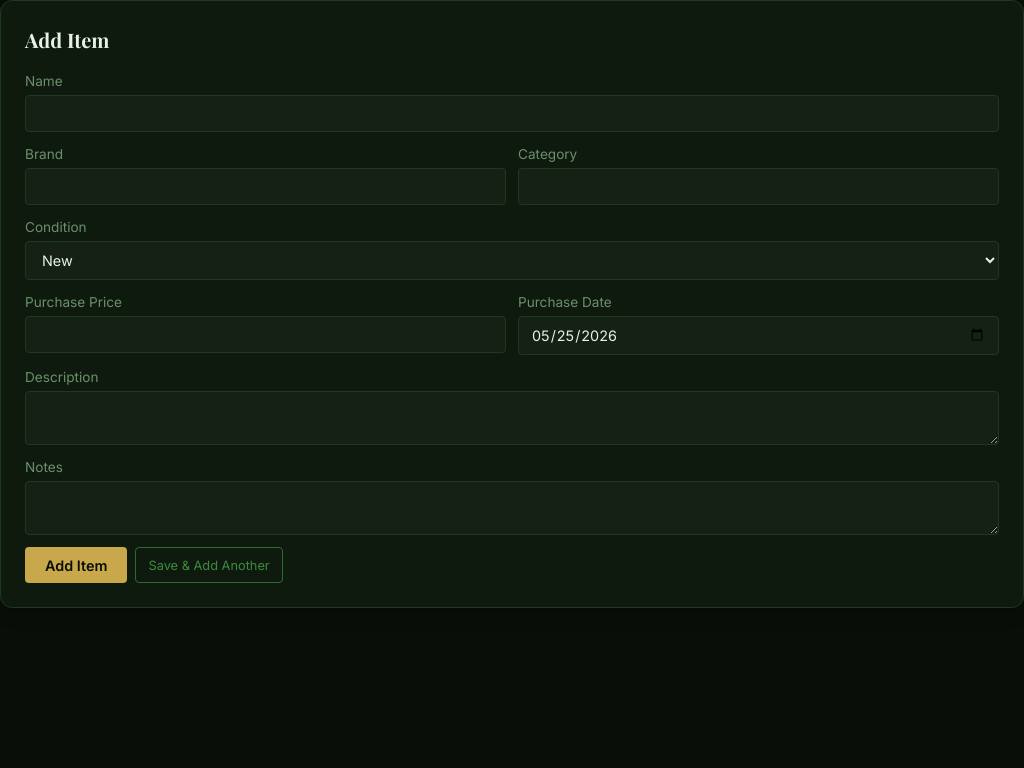
AddItemForm › 400 response from API displays an error message
In the field labelled "Name": (512, 114) x1=25 y1=95 x2=999 y2=132, type "Test Bag"
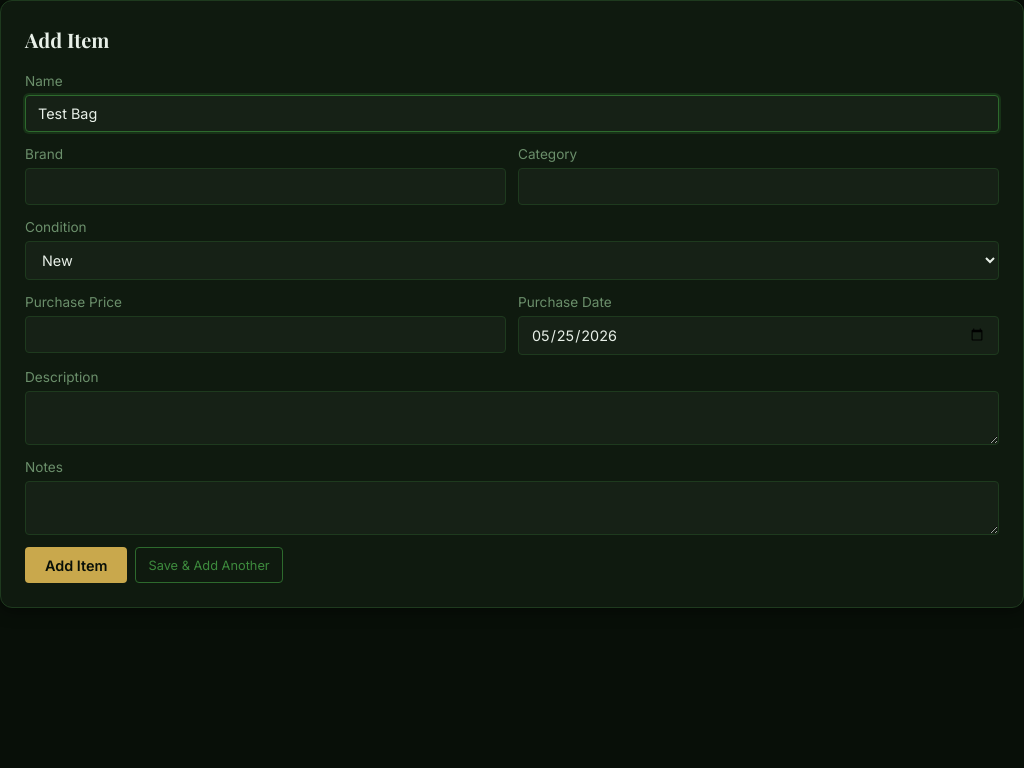
In the number field labelled "Purchase Price": (266, 335) x1=25 y1=316 x2=506 y2=353, type "100"
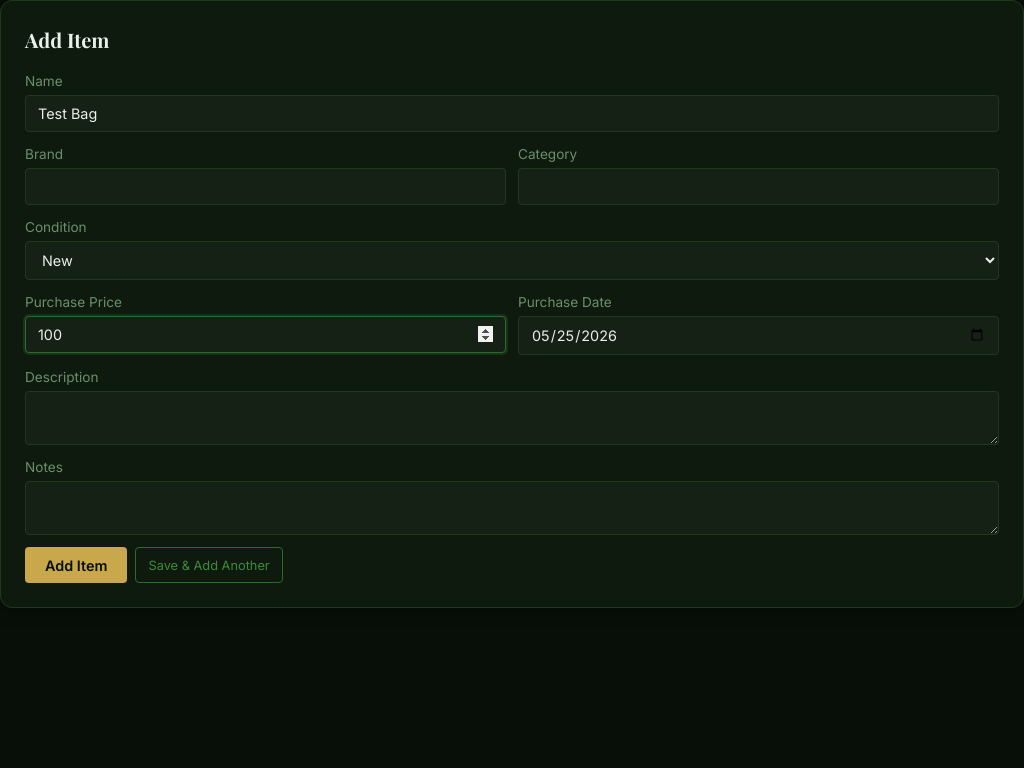
Click the button "Add Item": (76, 565) x1=25 y1=547 x2=127 y2=583
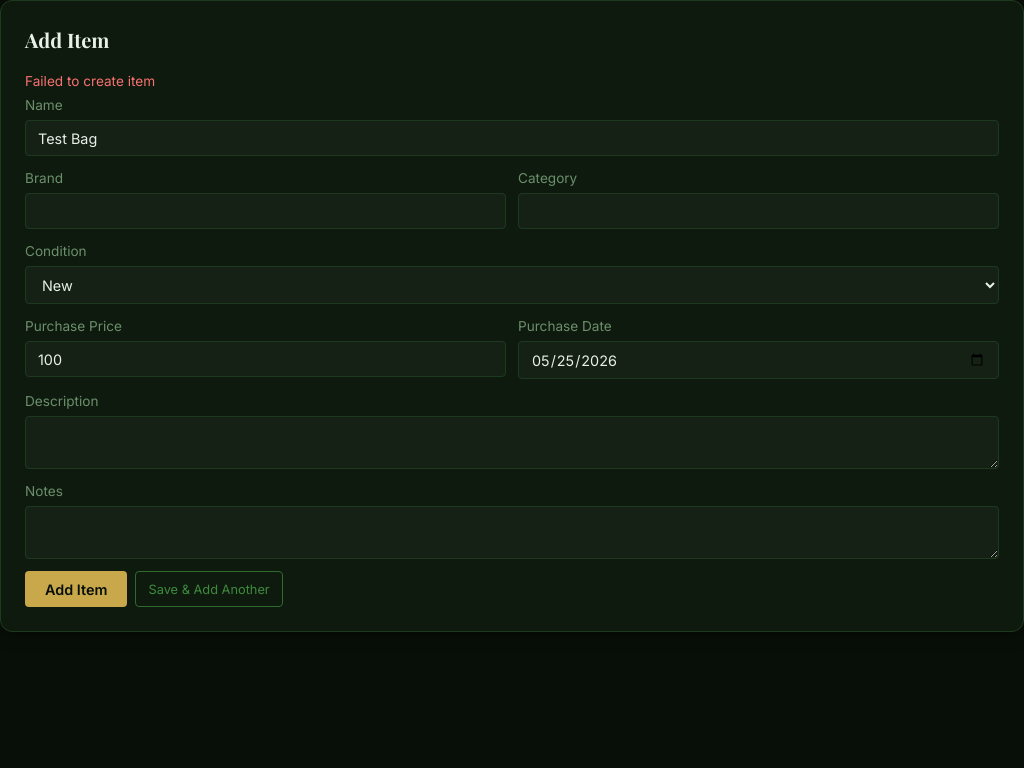
Expected: the text "Failed to create item" is shown, x1=25 y1=73 x2=155 y2=89
